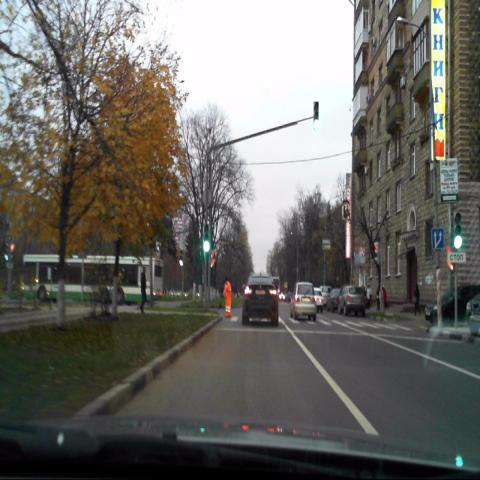5_15_3: (432, 228, 444, 249)
